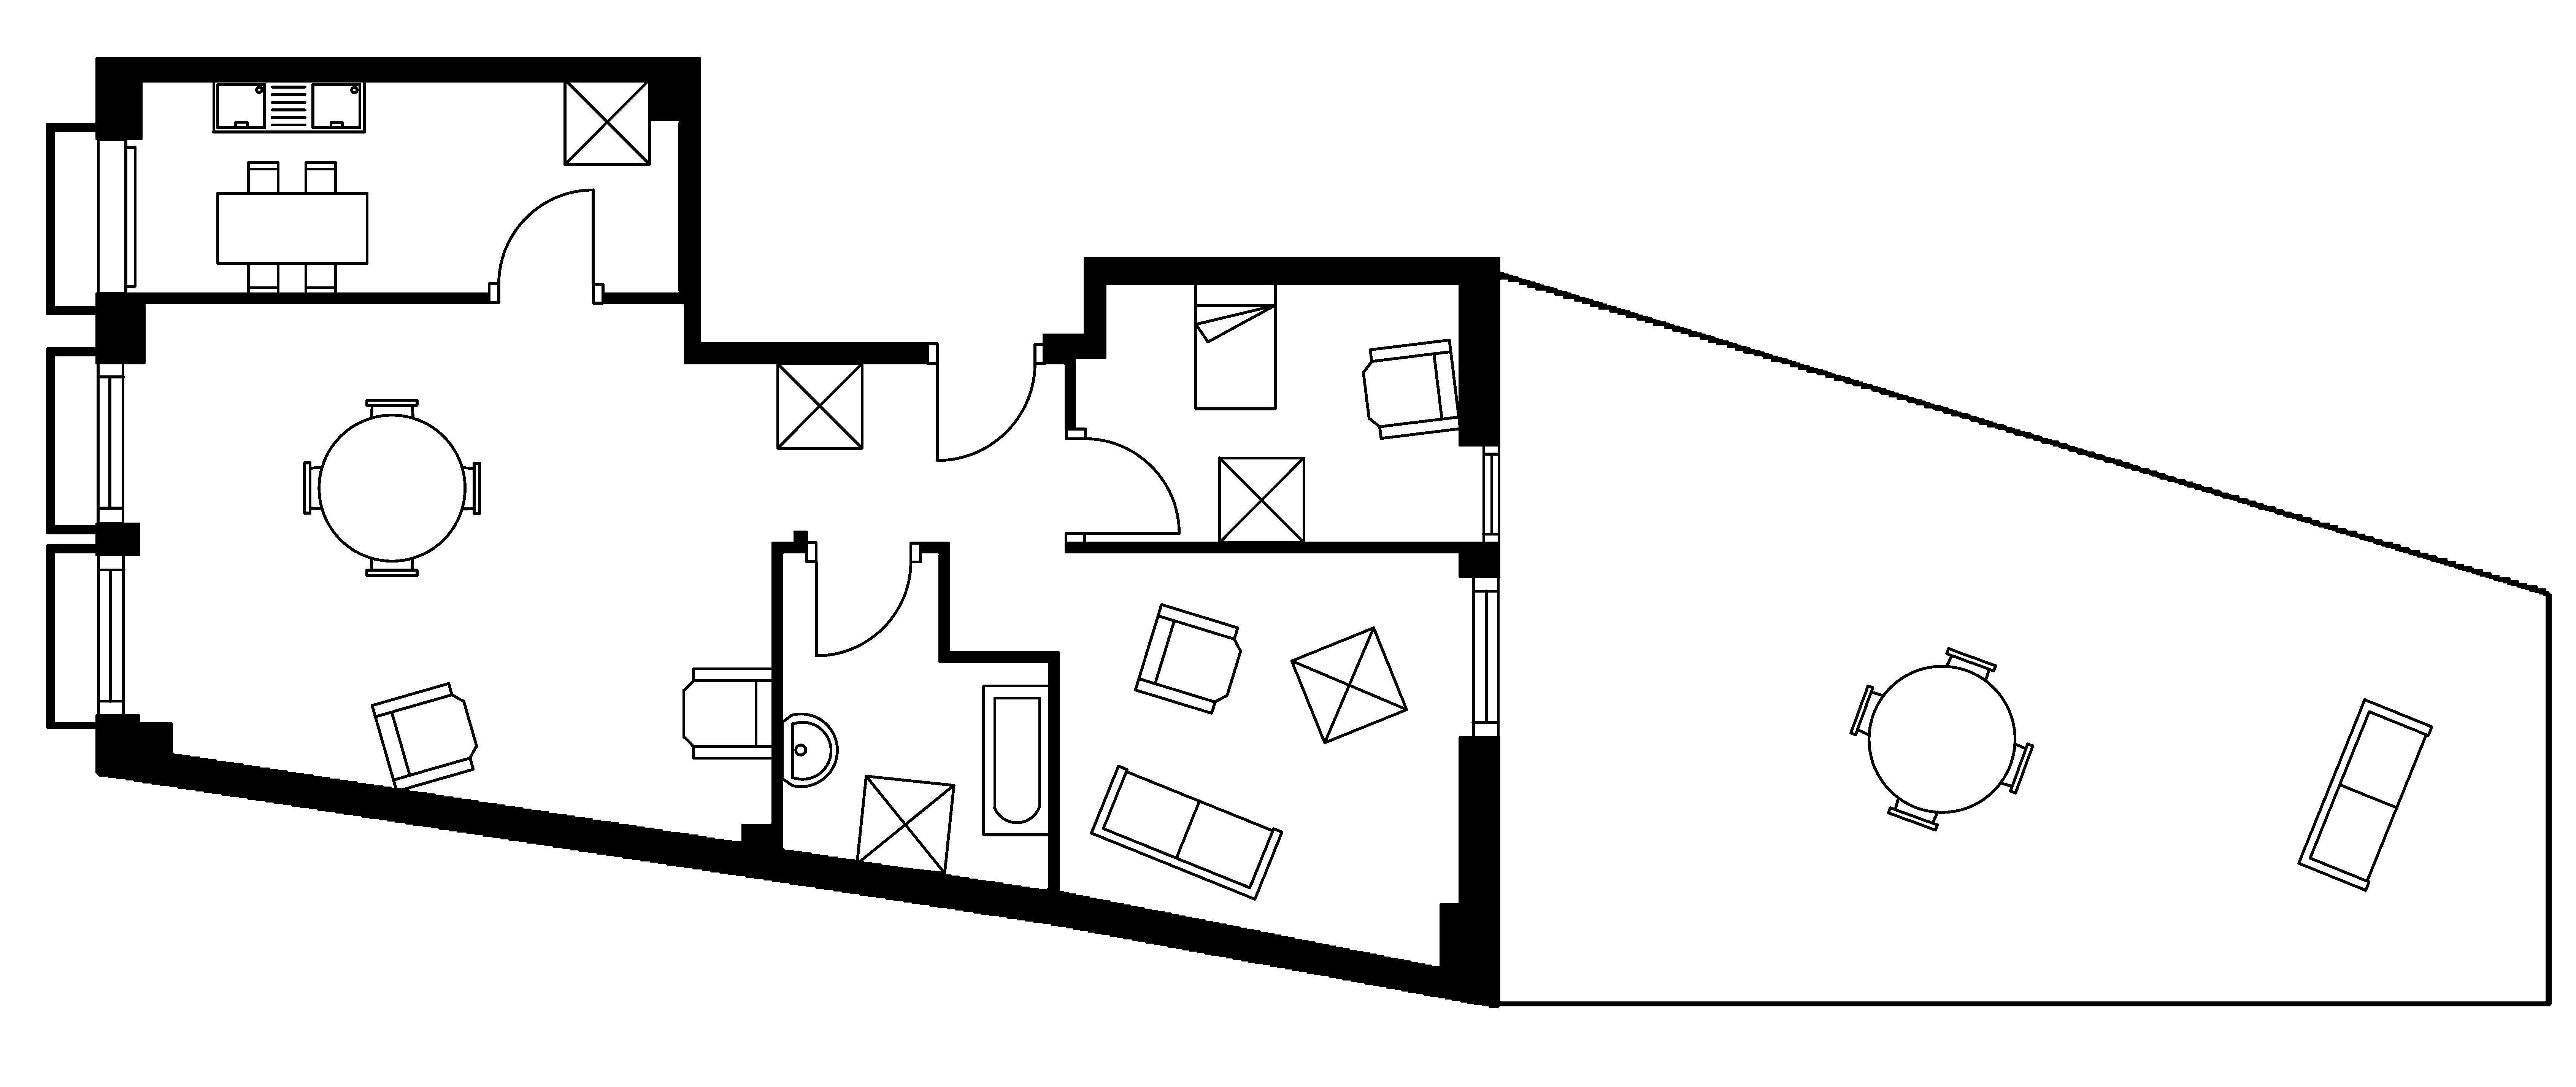armchair: (1134, 602, 1242, 715), (370, 681, 478, 793), (1362, 337, 1462, 441), (682, 666, 774, 760)
bed: (1193, 281, 1276, 411)
coffee_table: (1290, 625, 1408, 745), (854, 773, 956, 875), (562, 77, 651, 166), (775, 362, 864, 451), (1217, 456, 1306, 544)
dining_table: (215, 160, 368, 296)
large_sofa: (1089, 765, 1283, 901), (2297, 697, 2433, 891)
round_table: (1848, 646, 2034, 832), (302, 398, 481, 577)
small_sink: (780, 712, 838, 788)
tub: (981, 684, 1051, 837)
twin_sink: (210, 77, 366, 133)
